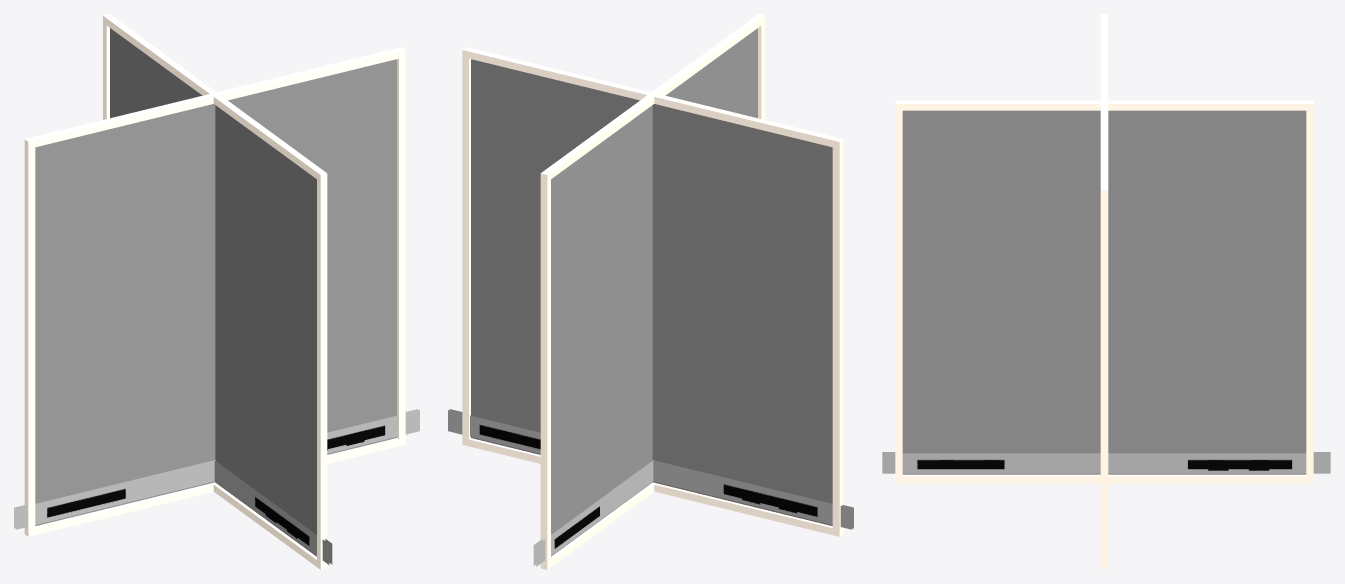
The model's file is DG-Celebration.fbx.
3 views of the same model, side by side, from view 1: azimuth 30°, elevation 25°; view 2: azimuth 150°, elevation 25°; view 3: azimuth 270°, elevation 25° (orthographic). The views are drawn at different scales.
Parts seen in each view (by area): view 1: Paint_back, Paint_front, Paint_front_1, Paint_back_1, DG2021_front, FrameL, FrameT, FrameL_1, FrameR, FrameT_1, FrameB, DG2021_back_1 (+2 smaller); view 2: Paint_back, Paint_front, Paint_back_1, Paint_front_1, DG2021_back, FrameL, FrameT, FrameR_1, FrameR, FrameT_1, FrameB, DG2021_back_1 (+2 smaller); view 3: Paint_front_1, Paint_back_1, DG2021_front_1, FrameT_1, FrameB_1, FrameR, FrameL_1, FrameR_1, FrameT.
Part boxes in pixels (x1=…): Paint_back: x1=35, y1=60, x2=396, y2=525; Paint_front: x1=35, y1=59, x2=396, y2=525; Paint_front_1: x1=110, y1=28, x2=316, y2=556; Paint_back_1: x1=110, y1=30, x2=316, y2=556; DG2021_front: x1=15, y1=410, x2=419, y2=529; FrameL: x1=24, y1=146, x2=35, y2=529; FrameT: x1=24, y1=47, x2=405, y2=148; FrameL_1: x1=317, y1=179, x2=327, y2=562; FrameR: x1=397, y1=57, x2=405, y2=439; FrameT_1: x1=103, y1=14, x2=327, y2=181; FrameB: x1=24, y1=438, x2=405, y2=536; DG2021_back_1: x1=214, y1=460, x2=329, y2=564; Paint_back: x1=471, y1=59, x2=832, y2=525; Paint_front: x1=471, y1=59, x2=832, y2=525; Paint_back_1: x1=551, y1=29, x2=757, y2=556; Paint_front_1: x1=551, y1=28, x2=757, y2=556; DG2021_back: x1=448, y1=410, x2=852, y2=529; FrameL: x1=832, y1=146, x2=843, y2=529; FrameT: x1=462, y1=47, x2=843, y2=148; FrameR_1: x1=540, y1=179, x2=550, y2=562; FrameR: x1=462, y1=57, x2=470, y2=439; FrameT_1: x1=540, y1=14, x2=764, y2=181; FrameB: x1=462, y1=438, x2=843, y2=536; DG2021_back_1: x1=536, y1=460, x2=653, y2=566; Paint_front_1: x1=902, y1=110, x2=1306, y2=474; Paint_back_1: x1=902, y1=110, x2=1306, y2=474; DG2021_front_1: x1=882, y1=453, x2=1330, y2=473; FrameT_1: x1=895, y1=100, x2=1313, y2=110; FrameB_1: x1=895, y1=474, x2=1313, y2=483; FrameR: x1=1100, y1=197, x2=1108, y2=563; FrameL_1: x1=895, y1=110, x2=902, y2=476; FrameR_1: x1=1306, y1=110, x2=1313, y2=476; FrameT: x1=1100, y1=14, x2=1108, y2=197.
Bounding box in the file's own units: 300 × 280 × 300.
